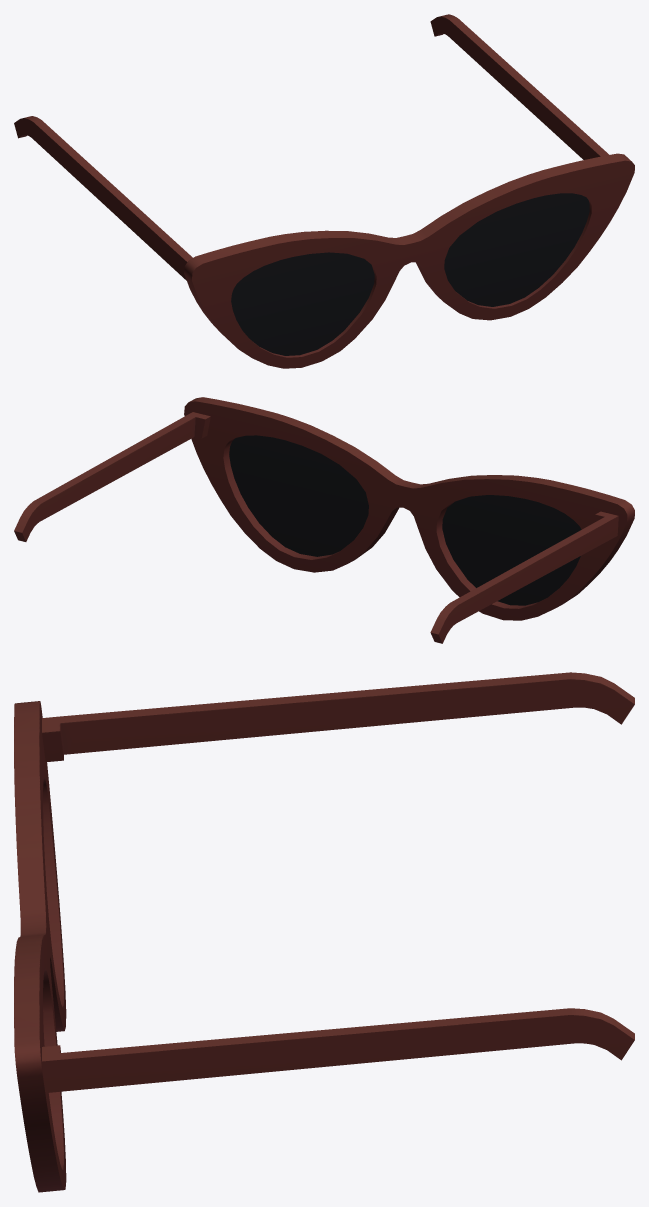
The model's file is SM_MISC_Glasses_CatEyeSunglasses.fbx.
3 renders of one model, top to bottom at view 1: azimuth 30°, elevation 25°; view 2: azimuth 150°, elevation 25°; view 3: azimuth 270°, elevation 25°, orthographic. The views are drawn at different scales.
Parts seen in each view (by area): view 1: MISC_Glasses_CatEyeSunglasses; view 2: MISC_Glasses_CatEyeSunglasses; view 3: MISC_Glasses_CatEyeSunglasses.
Boxes of the visible parts, x1,y1,x2,y2 form: MISC_Glasses_CatEyeSunglasses: (14,14,634,368); MISC_Glasses_CatEyeSunglasses: (14,397,634,643); MISC_Glasses_CatEyeSunglasses: (14,672,634,1192).
Bounding box in the file's own units: 58.61 × 19.57 × 43.08.
1 material, 1 textured.
